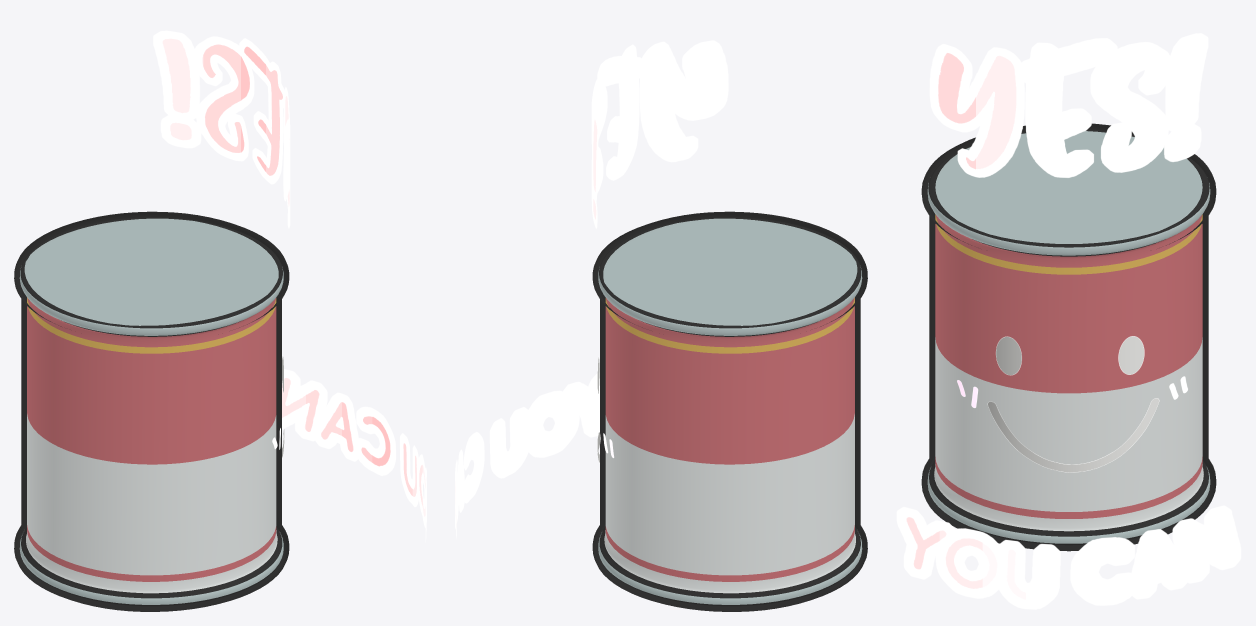
The model's file is YesYouCan.glb.
3 views of the same model, side by side, from view 1: azimuth 30°, elevation 25°; view 2: azimuth 150°, elevation 25°; view 3: azimuth 270°, elevation 25° (orthographic). The views are drawn at different scales.
Parts seen in each view (by area): view 1: bettercan.001, YES, youCan; view 2: bettercan.001, YES, youCan; view 3: bettercan.001, YES, youCan, face.
Part boxes in pixels (x1,y1,x2,y2): bettercan.001: (14, 211, 289, 611); YES: (153, 30, 290, 228); youCan: (282, 369, 426, 542); bettercan.001: (592, 211, 867, 611); YES: (591, 40, 728, 228); youCan: (455, 373, 599, 538); bettercan.001: (921, 123, 1216, 551); YES: (929, 33, 1208, 177); youCan: (896, 505, 1241, 609); face: (957, 336, 1187, 472).
Size of what is drawn, in the model's own units: 4.98 by 6.26 by 3.82.
5 materials, 4 textured.
